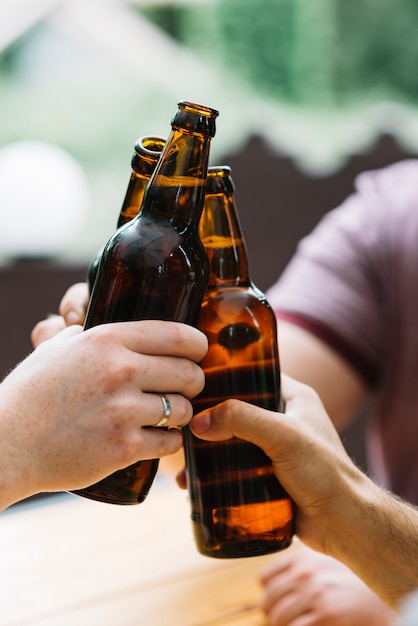alcohol: (58, 100, 219, 507), (178, 165, 311, 557), (88, 136, 170, 298)
